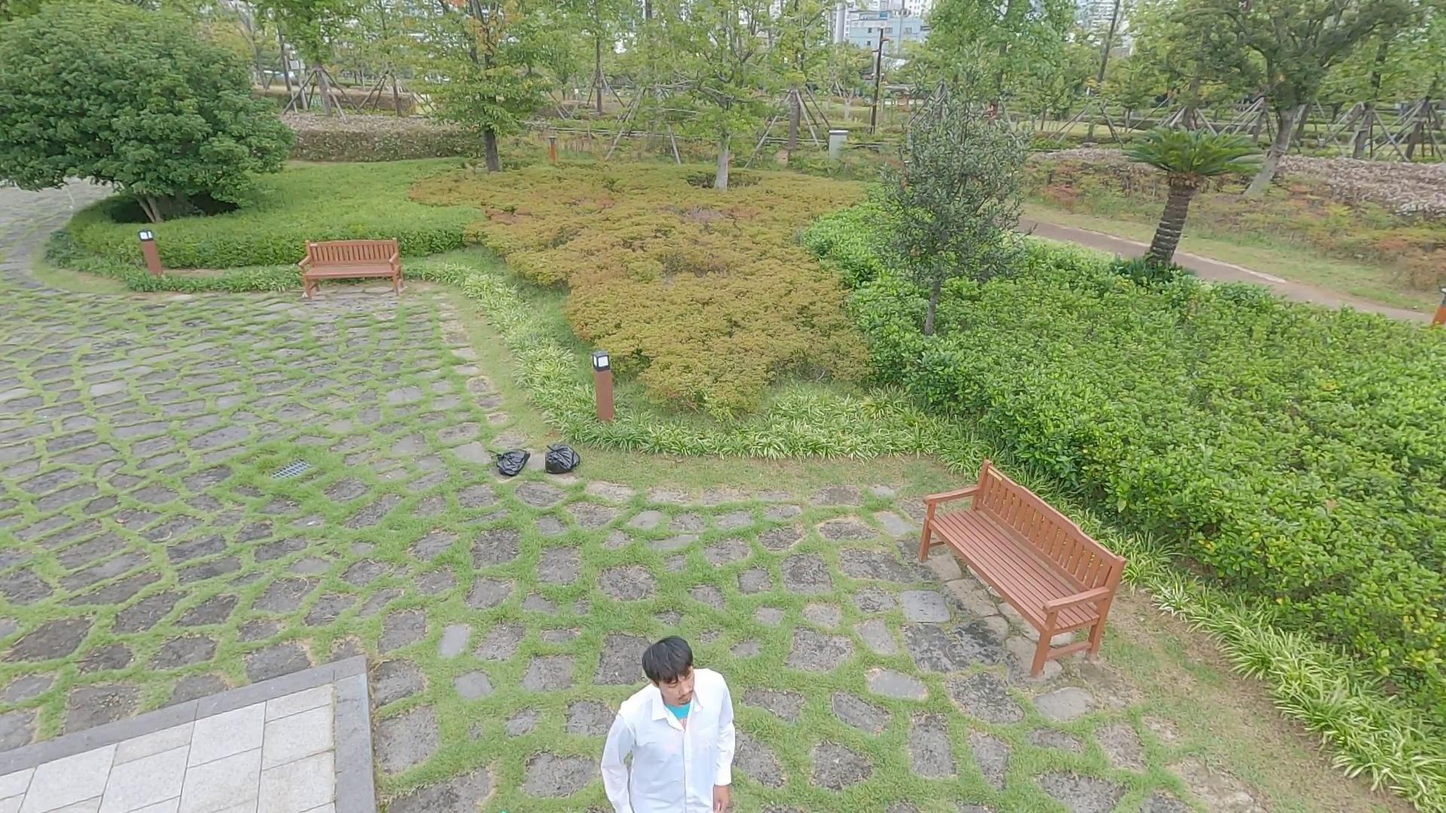person: (591, 632, 750, 813)
trash: (542, 437, 585, 477), (490, 446, 529, 480)
